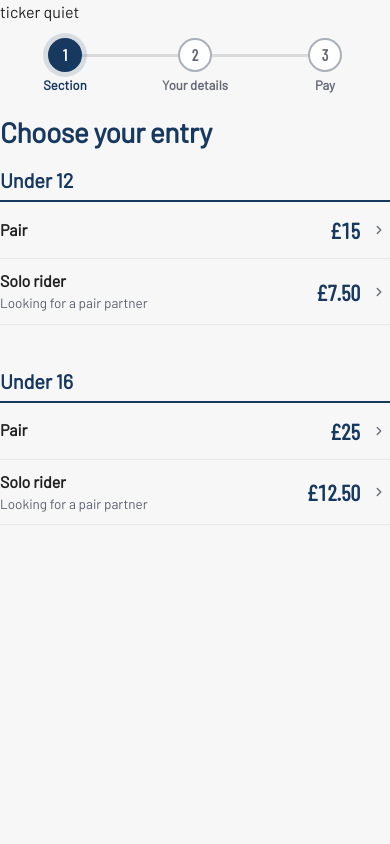
Test case: the ticker during entry › goes quiet on the entry steps and comes back when the page closes
Expected: the text "ticker quiet" is shown, [0,2,79,21]
Click the link "Pair £15" at (345, 230), box [0,218,386,244]
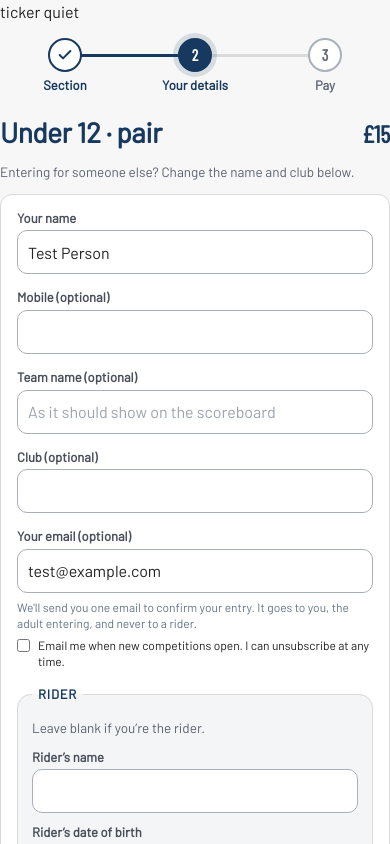
Expected: the text "ticker quiet" is shown, [0,2,79,21]
Result: the field labelled "Your name" is shown at [17,230,373,274]
